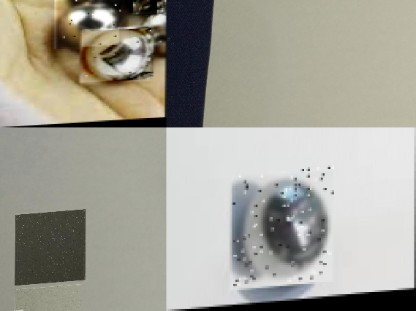ironball: (230, 169, 333, 292), (80, 27, 150, 86), (53, 0, 119, 49), (127, 18, 165, 56), (78, 0, 120, 16), (128, 0, 161, 14)
